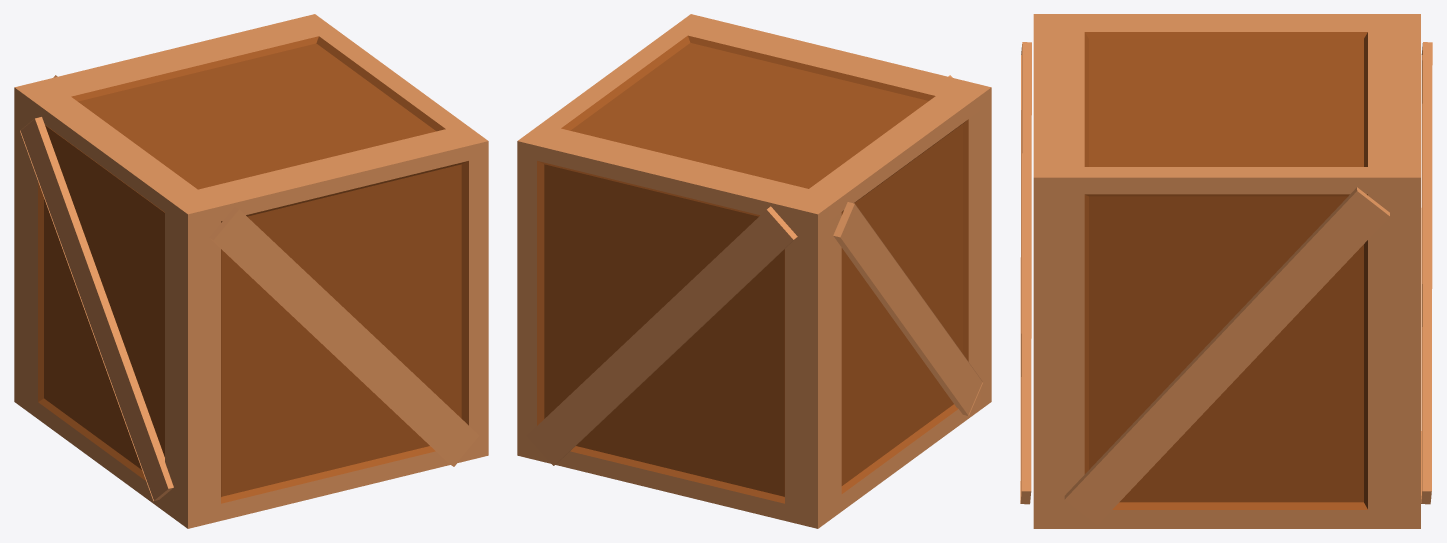
3 renders of one model, left to right at view 1: azimuth 30°, elevation 25°; view 2: azimuth 150°, elevation 25°; view 3: azimuth 270°, elevation 25°, orthographic. The views are drawn at different scales.
Parts seen in each view (by area): view 1: Plane.003; view 2: Plane.003; view 3: Plane.003.
Boxes of the visible parts, box(x1,y1,x2,y2) form: Plane.003: box(14, 14, 488, 528); Plane.003: box(517, 14, 991, 528); Plane.003: box(1020, 14, 1432, 528).
Bounding box in the file's own units: 219 × 206 × 219.
